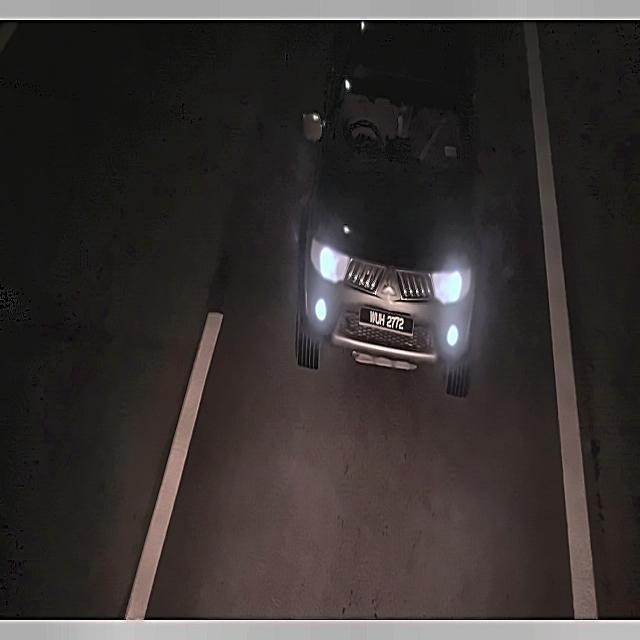car: (355, 299, 422, 344)
